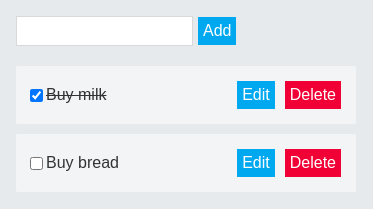
Test case: TodoApp › delete first item
Click the button with test id "delete0": [313, 95] box [285,81,341,109]
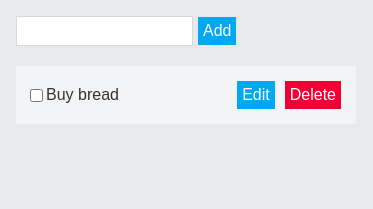
Expected: the text "Buy milk" is gone
